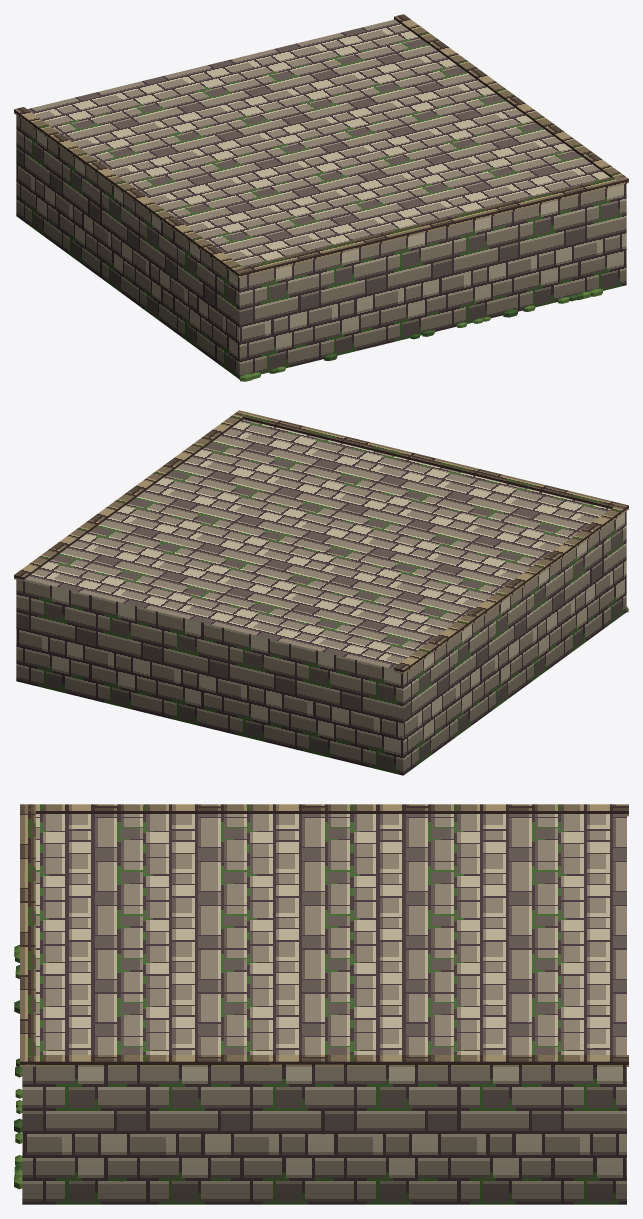
Rendered from scene_wall_s.glb.
3 renders of one model, top to bottom at view 1: azimuth 30°, elevation 25°; view 2: azimuth 150°, elevation 25°; view 3: azimuth 270°, elevation 25°, orthographic. The views are drawn at different scales.
Parts seen in each view (by area): view 1: scene_wall_s; view 2: scene_wall_s; view 3: scene_wall_s.
Boxes of the visible parts, <box> form: scene_wall_s: <box>14,14,628,381</box>; scene_wall_s: <box>14,410,628,775</box>; scene_wall_s: <box>14,804,628,1204</box>.
Bounding box in the file's own units: 14.1 × 3.77 × 14.24.
2 materials, 1 textured.
